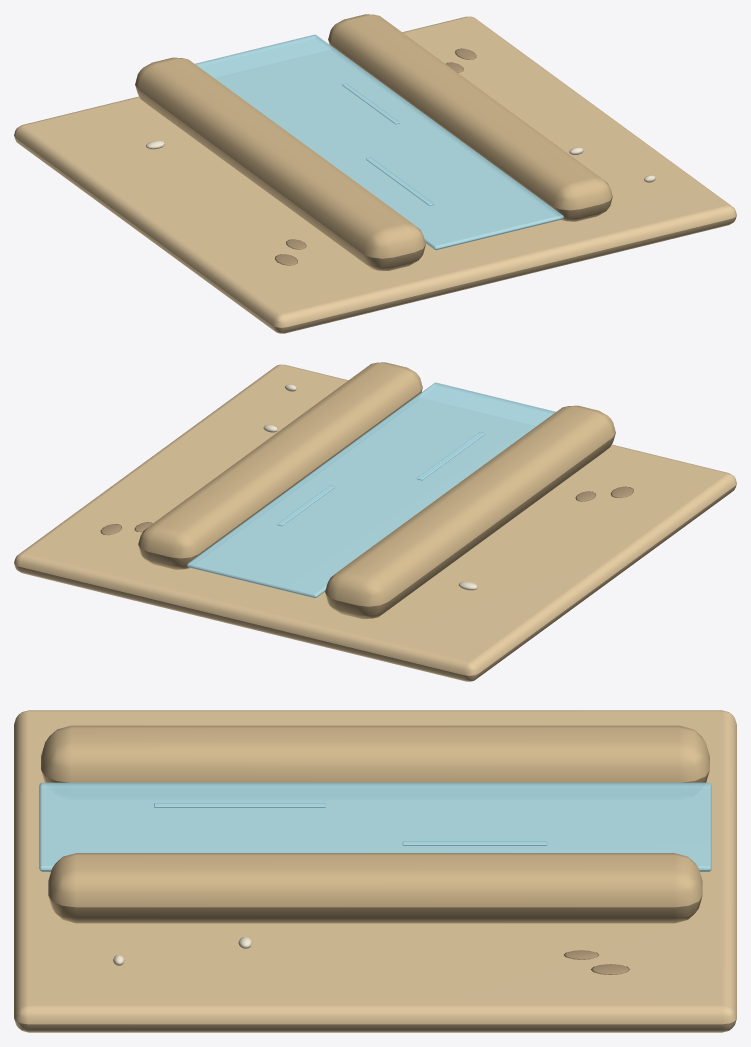
Rendered from sunbaked_sand_canal.glb.
The picture shows the model from 3 angles, top to bottom: view 1: azimuth 30°, elevation 25°; view 2: azimuth 150°, elevation 25°; view 3: azimuth 270°, elevation 25°; orthographic projection. The views are drawn at different scales.
Parts seen in each view (by area): view 1: sand_tile_base, sand_water, sand_left_berm, sand_right_berm; view 2: sand_tile_base, sand_water, sand_left_berm, sand_right_berm; view 3: sand_tile_base, sand_water, sand_right_berm, sand_left_berm, sand_water_highlight_a, sand_water_highlight_b.
Part boxes in pixels (x1,y1,x2,y2): sand_tile_base: (14, 16, 736, 333); sand_water: (195, 34, 563, 250); sand_left_berm: (135, 57, 425, 270); sand_right_berm: (328, 14, 612, 221); sand_tile_base: (14, 364, 736, 681); sand_water: (187, 382, 555, 598); sand_left_berm: (325, 405, 615, 618); sand_right_berm: (138, 362, 422, 569); sand_tile_base: (14, 710, 736, 1032); sand_water: (39, 782, 711, 871); sand_right_berm: (48, 853, 702, 923); sand_left_berm: (41, 725, 709, 782); sand_water_highlight_a: (154, 803, 325, 807); sand_water_highlight_b: (402, 841, 547, 845).
Size of the model in its own units: 4 by 0.53 by 4.
